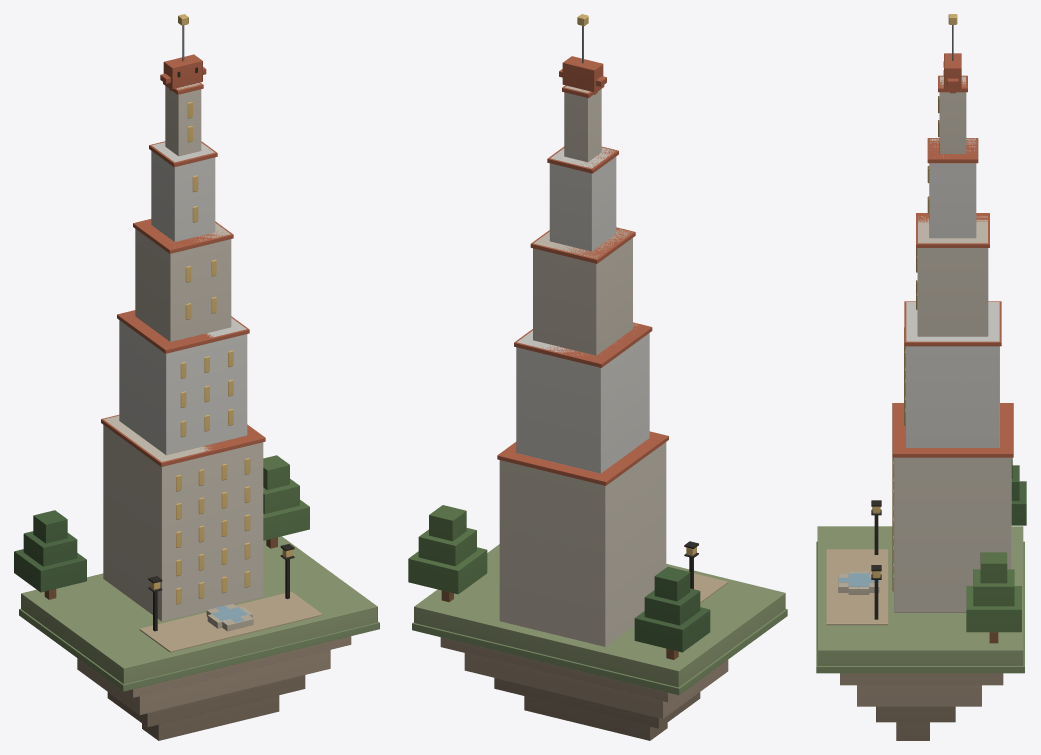
File: region_16.glb
The picture shows the model from 3 angles, left to right: view 1: azimuth 30°, elevation 25°; view 2: azimuth 150°, elevation 25°; view 3: azimuth 270°, elevation 25°; orthographic projection. The views are drawn at different scales.
Visible parts, largest first — view 1: region_16_static, region_16_glow; view 2: region_16_static; view 3: region_16_static, region_16_glow.
Boxes of the visible parts, left/top/right/bottom form: region_16_static: left=14, top=25, right=379, bottom=740; region_16_glow: left=150, top=102, right=292, bottom=604; region_16_static: left=408, top=26, right=787, bottom=740; region_16_static: left=816, top=25, right=1026, bottom=740; region_16_glow: left=872, top=96, right=939, bottom=591.
Bounding box in the file's own units: 10.46 × 25.99 × 7.16.
